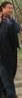boots: (6, 94, 15, 98), (0, 94, 7, 98)
